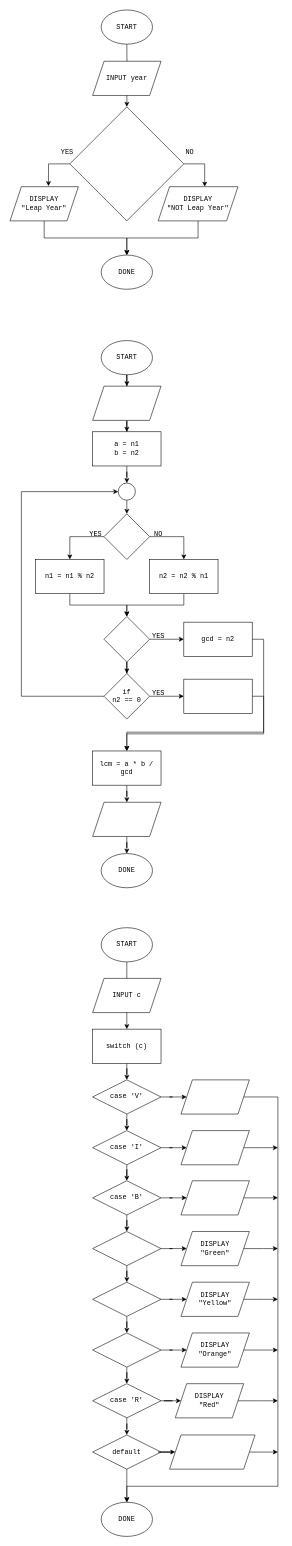
Some shapes in this 292 by 1546 pixel diagram are drawn without their labels. The shapes that lost their labels are listed below. From the top down, each one's centre as x and y in pixels, then its label:
(126,163): if (year % 400 == 0 OR year % 4 == 0) AND year % 100 != 0
(126,403): INPUT n1, n2
(126,536): if n1>n2
(126,639): if n1 == 0
(217,696): gcd = n1
(126,819): DISPLAY gcd, lcm
(214,1096): DISPLAY "Violet"
(214,1147): DISPLAY "Indigo"
(214,1197): DISPLAY "Blue"
(126,1248): case 'G'
(126,1299): case 'Y'
(126,1349): case 'O'
(212,1451): DISPLAY "Invalid Color"
